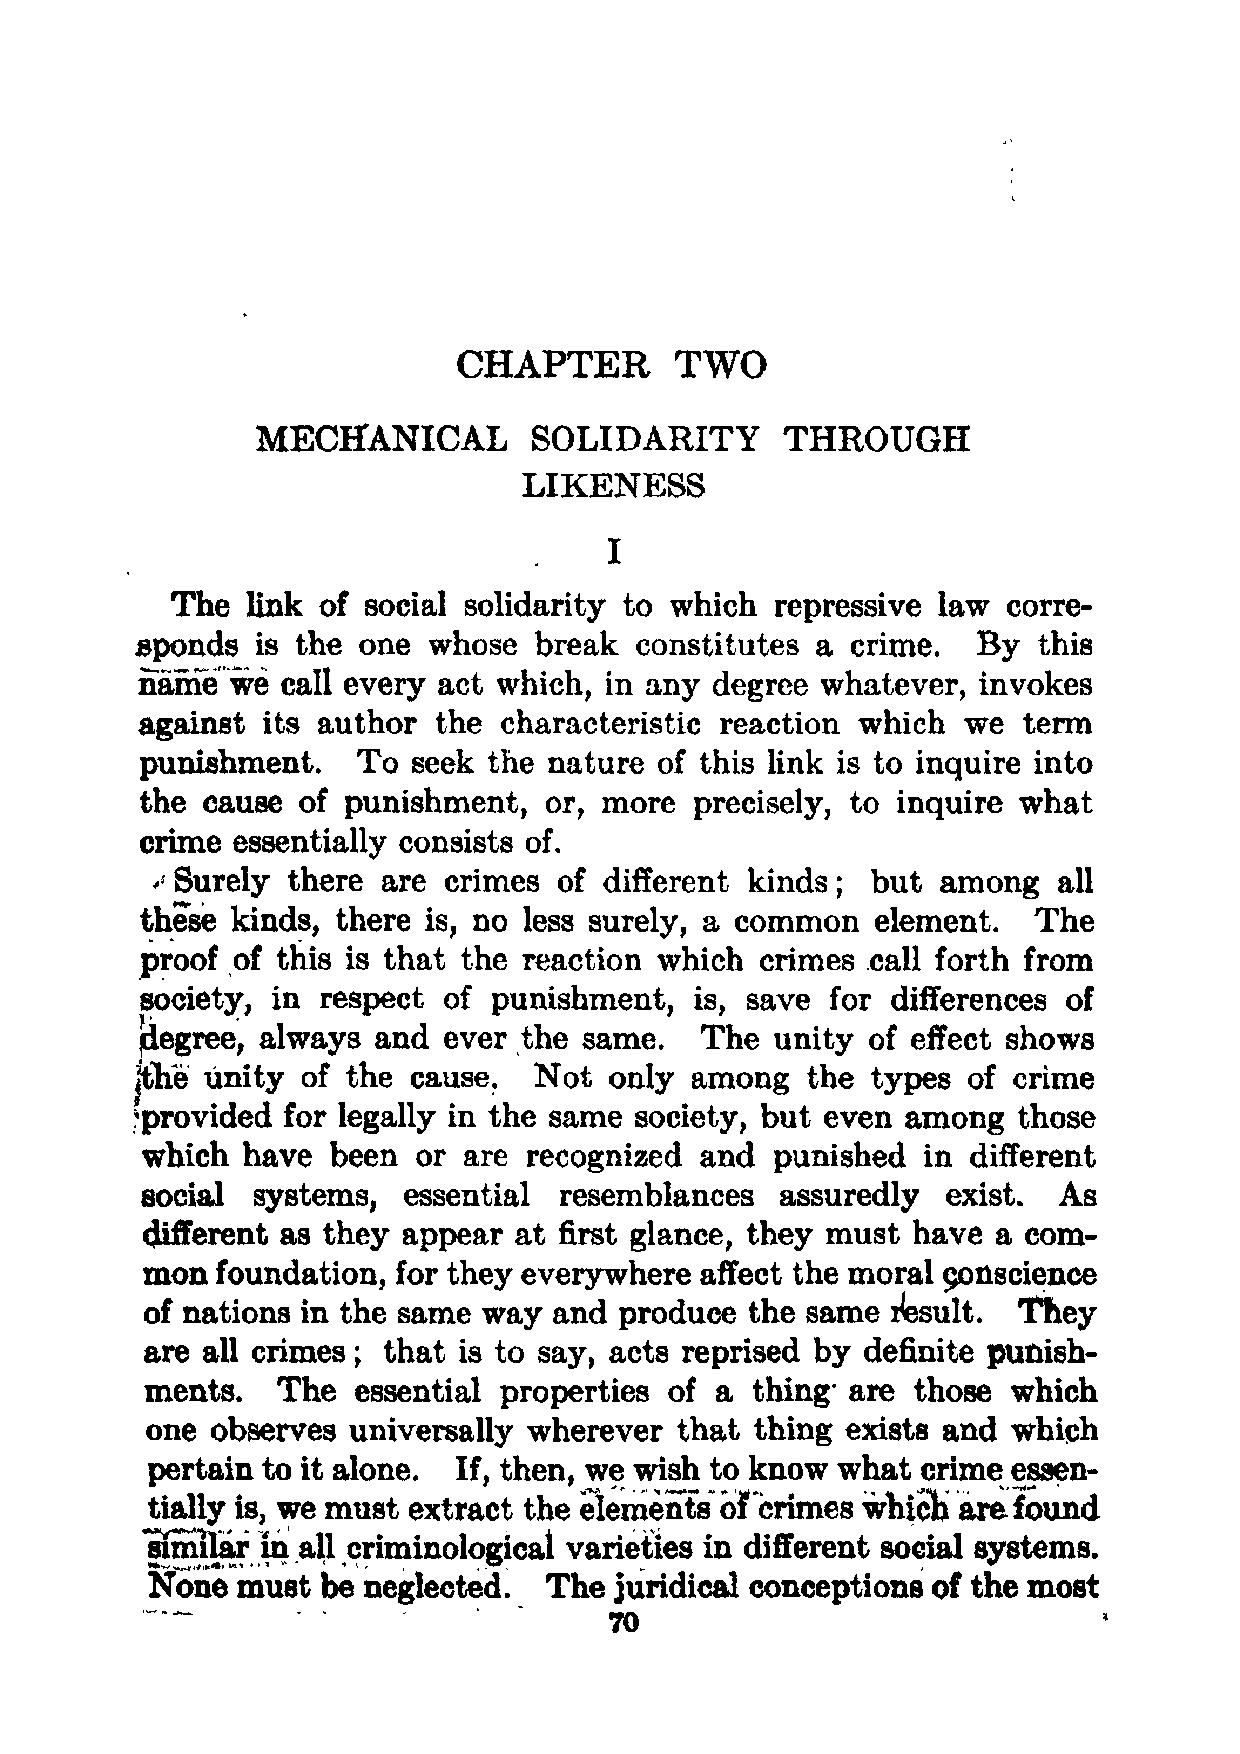chapter: (254, 345, 972, 569)
content: (132, 586, 1102, 1606)
content_pagenumber: (607, 1609, 640, 1635)
